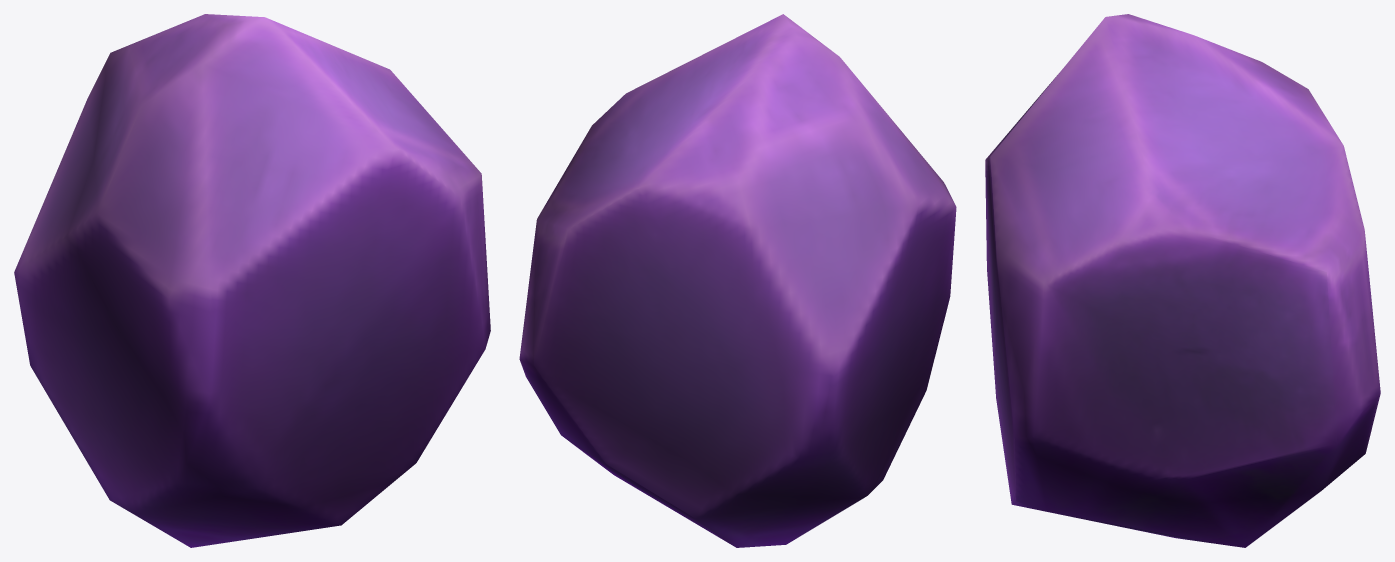
Rendered from SM_Gem_Amethyst_Piece_003.fbx.
3 views of the same model, side by side, from view 1: azimuth 30°, elevation 25°; view 2: azimuth 150°, elevation 25°; view 3: azimuth 270°, elevation 25° (orthographic). The views are drawn at different scales.
Visible parts, largest first — view 1: SM_Gem_Amethyst_Piece_003; view 2: SM_Gem_Amethyst_Piece_003; view 3: SM_Gem_Amethyst_Piece_003.
Part boxes in pixels (bbox=[...]): SM_Gem_Amethyst_Piece_003: bbox=[14, 14, 490, 547]; SM_Gem_Amethyst_Piece_003: bbox=[519, 14, 956, 547]; SM_Gem_Amethyst_Piece_003: bbox=[985, 14, 1380, 547].
Size of the model in its own units: 13.08 by 19.73 by 13.1.
